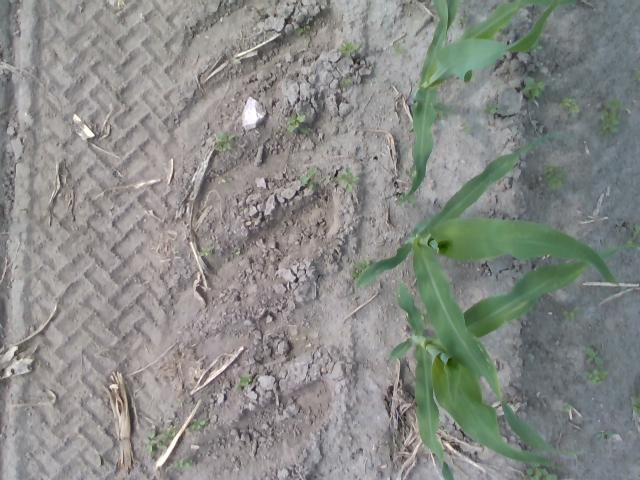Maize: (354, 135, 620, 456), (388, 249, 618, 480), (395, 0, 578, 206)
Weeds: (302, 166, 326, 192), (524, 464, 558, 480), (143, 430, 167, 450), (525, 76, 545, 98), (600, 108, 618, 132), (286, 111, 306, 132), (341, 166, 359, 189), (560, 97, 580, 115), (215, 132, 233, 151), (586, 348, 602, 366), (338, 42, 358, 54), (629, 395, 640, 416), (590, 368, 606, 382), (548, 174, 564, 188), (436, 102, 448, 118), (629, 224, 640, 241), (190, 419, 205, 430), (240, 376, 252, 388), (544, 164, 554, 178), (486, 100, 496, 114), (296, 24, 310, 34), (351, 265, 362, 276), (173, 458, 188, 466), (395, 42, 404, 55), (198, 248, 212, 256), (608, 100, 622, 108), (564, 310, 574, 320), (459, 122, 469, 132), (596, 430, 612, 436), (168, 426, 177, 436), (564, 400, 570, 412), (217, 175, 224, 185), (342, 78, 350, 84)
